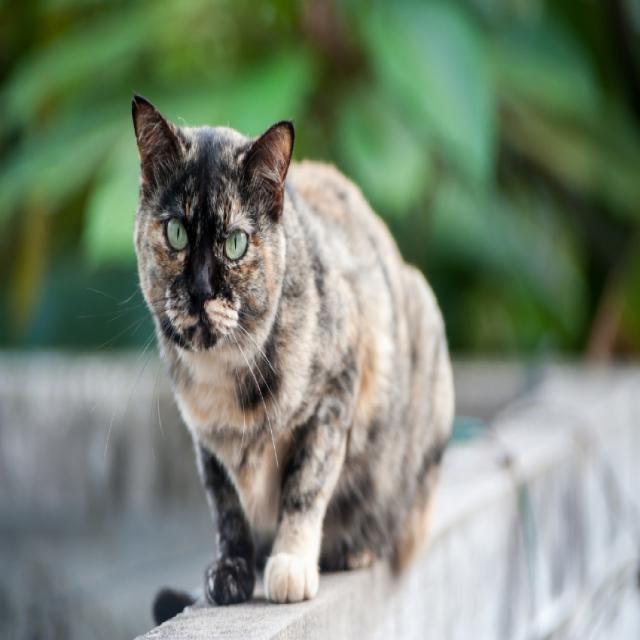cat: (132, 96, 454, 604)
